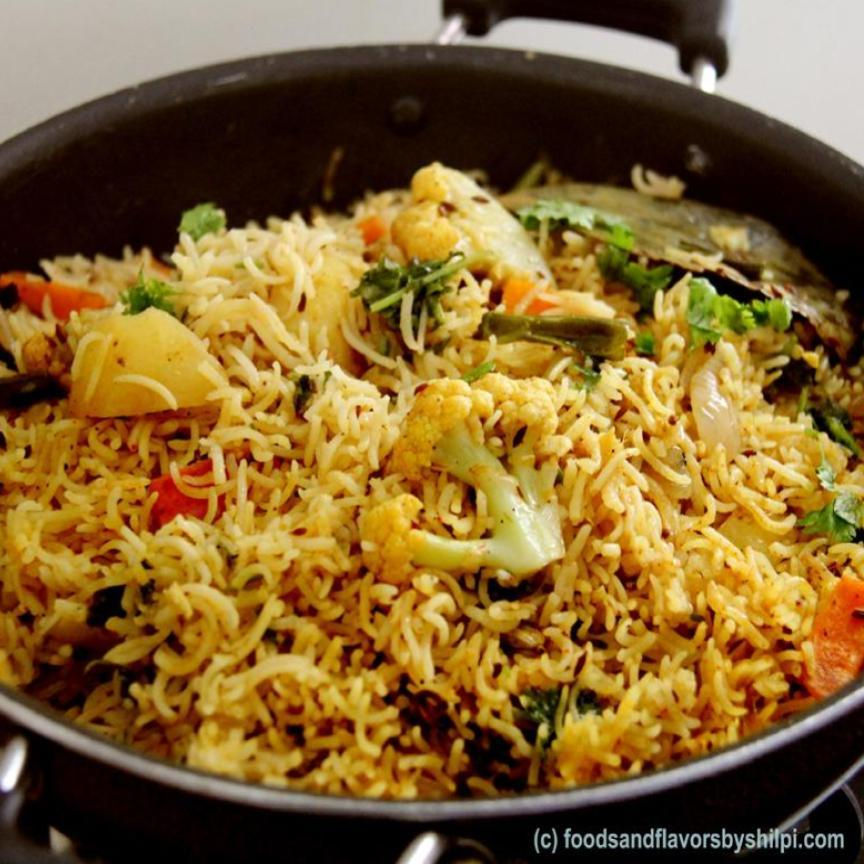veg-pulao: (13, 188, 853, 786)
